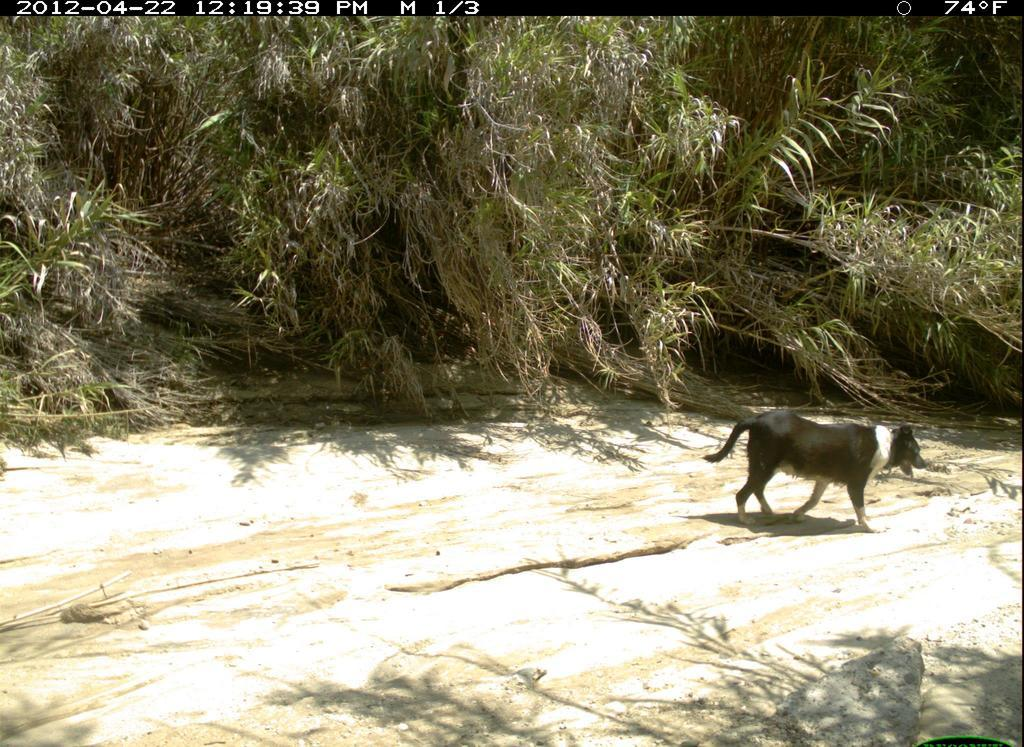dog: (702, 397, 937, 538)
